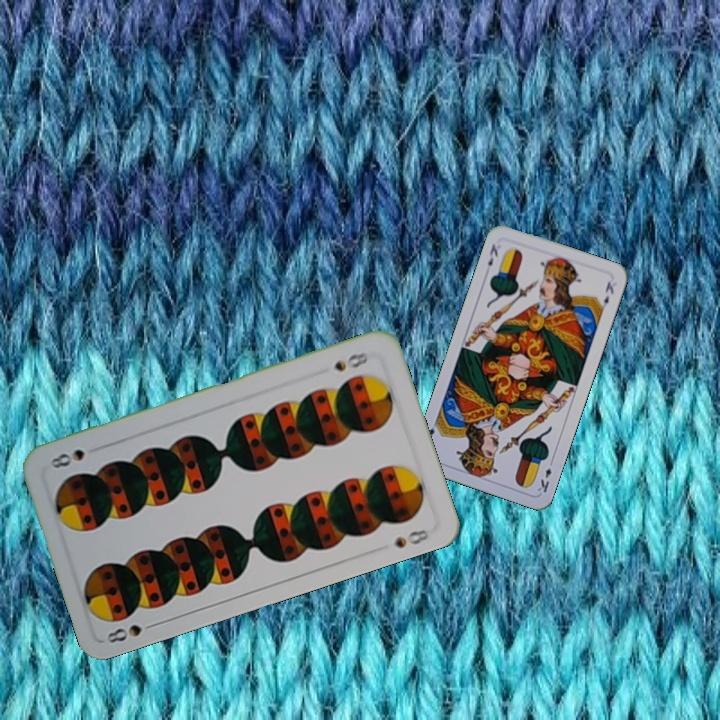EK: (533, 455, 556, 495), (484, 240, 501, 269)
S8: (102, 618, 161, 646), (330, 348, 371, 374)
